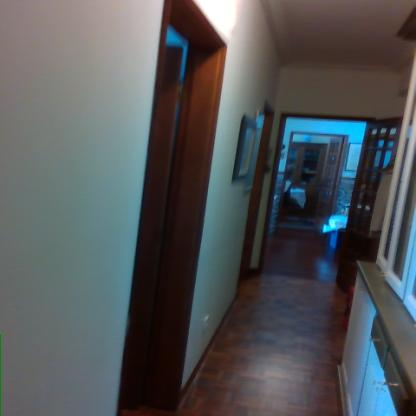open: (270, 105, 399, 254)
